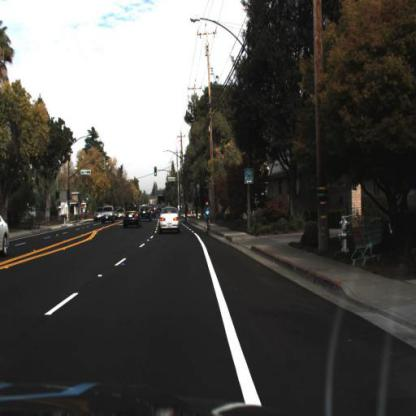biker: (204, 197, 215, 238), (204, 201, 212, 238)
car: (156, 205, 183, 236), (120, 203, 144, 235), (159, 208, 183, 233), (123, 207, 146, 232), (2, 208, 12, 260), (99, 203, 116, 229)
